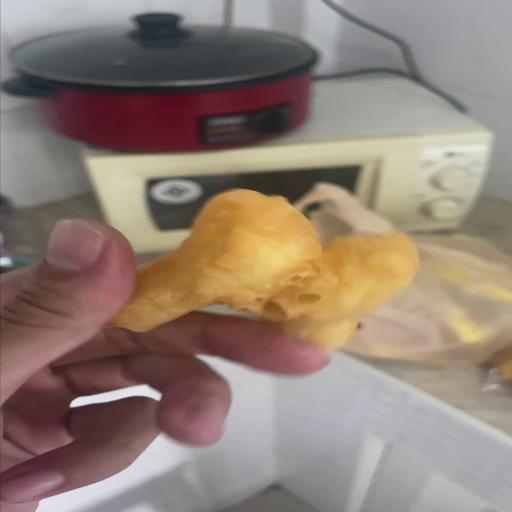street_golden_defect: (112, 189, 419, 349)
